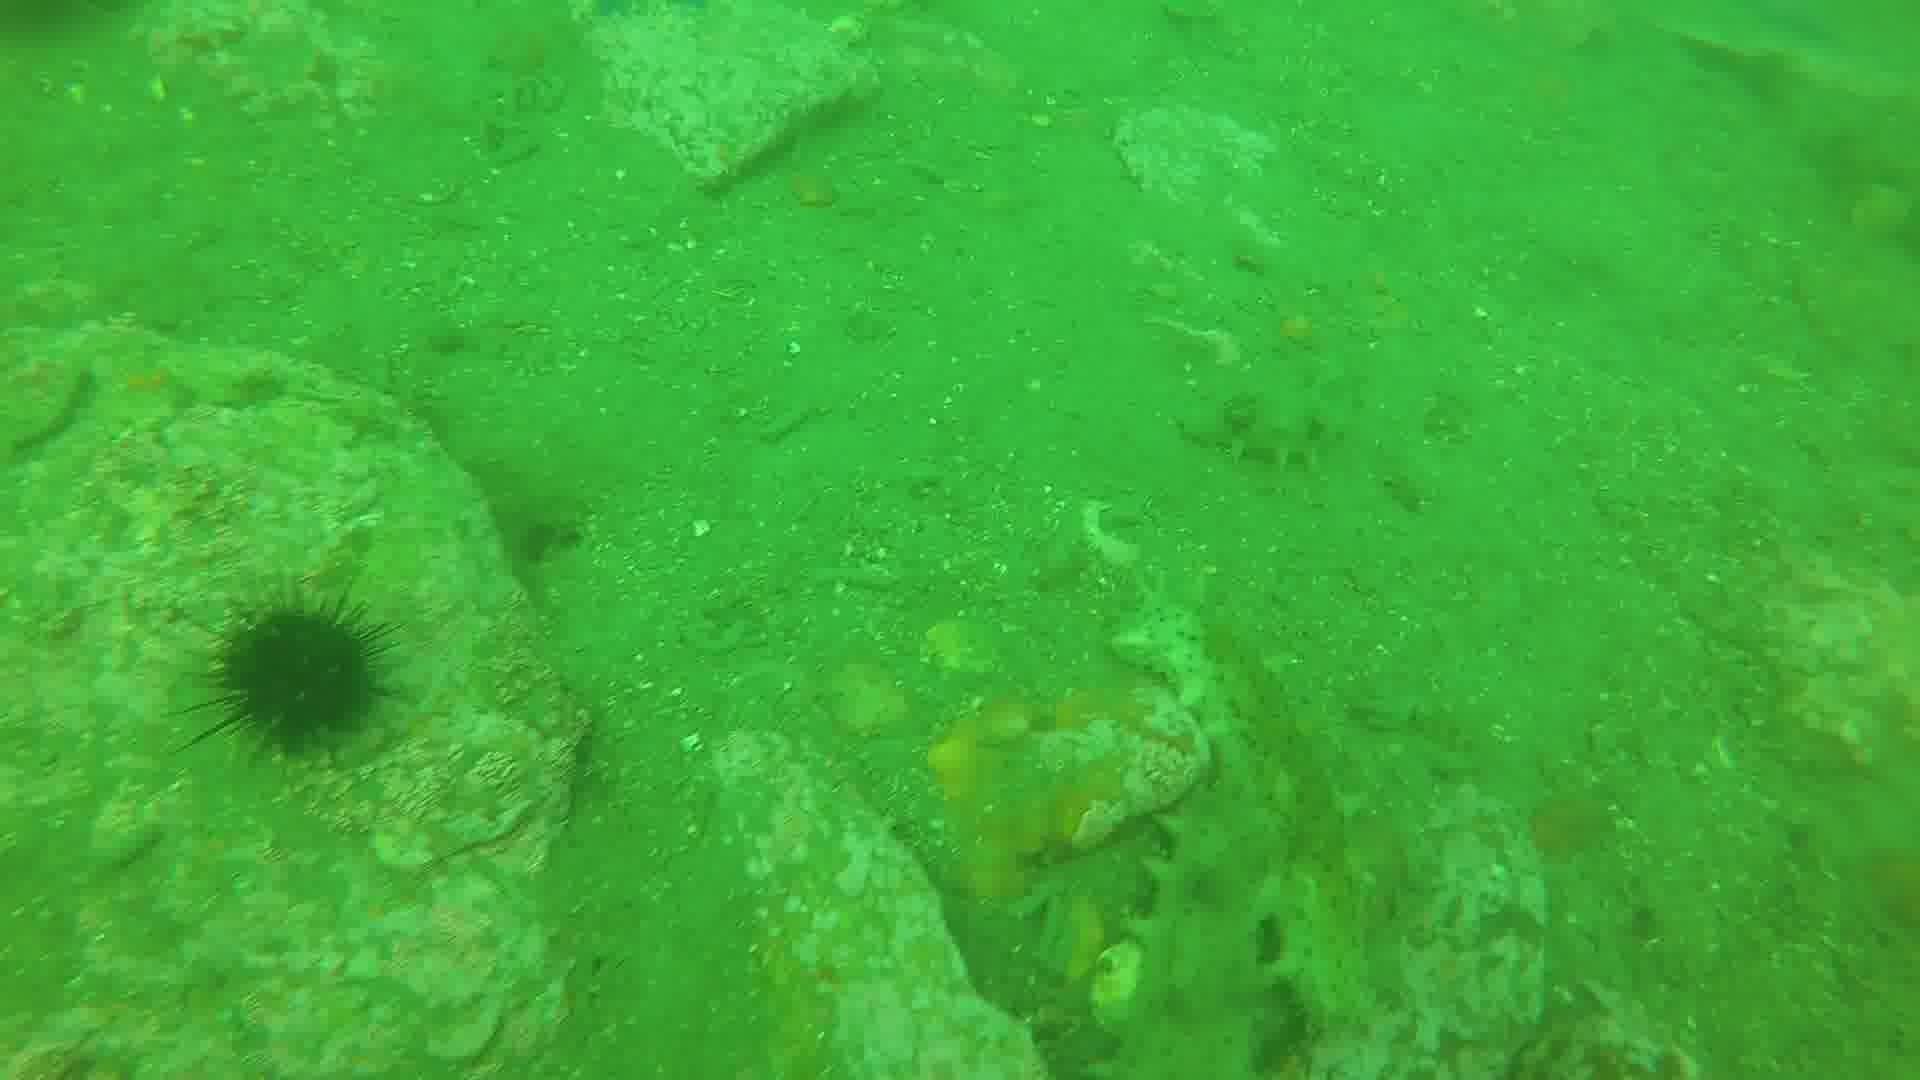echinus: (196, 584, 378, 750)
holothurian: (1108, 562, 1374, 1029), (1118, 796, 1279, 1080), (1180, 367, 1357, 467)
